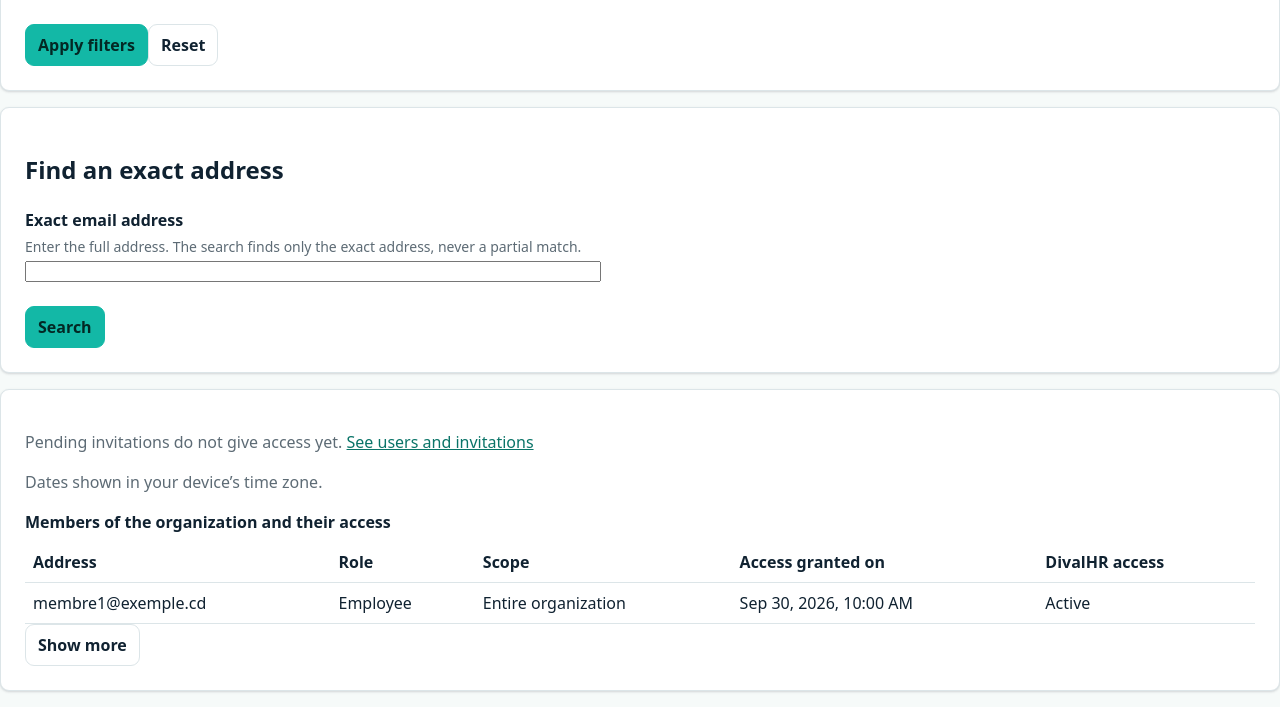
Scenario: access review (en) › loads more and moves focus to the first new row
This screenshot has width=1280, height=707.
(page scrolled)
Expected: the table with test id "review-table" is shown, top-left (25, 510), bottom-right (1255, 624)
Click the button "Show more".
click(82, 645)  # box top-left (25, 624), bottom-right (140, 666)
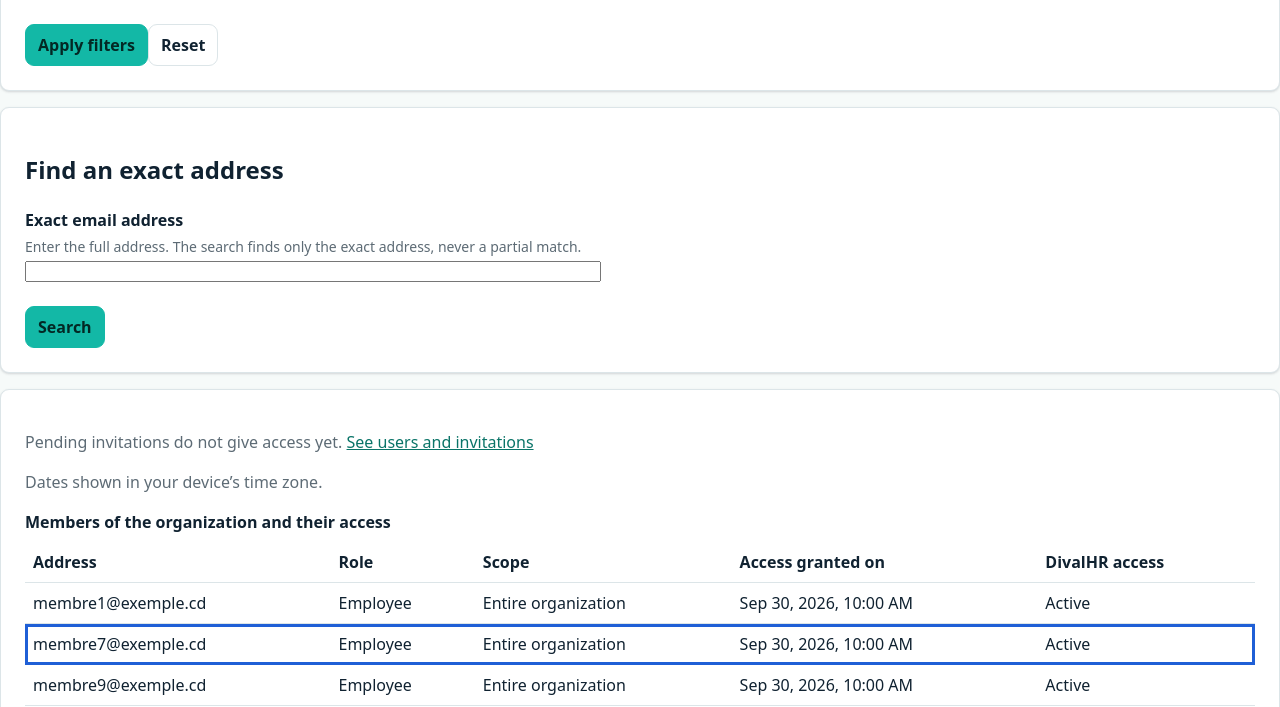
Result: the number of rows with test id "review-row" is 3 at top-left (25, 583), bottom-right (1255, 624); top-left (25, 624), bottom-right (1255, 665); top-left (25, 665), bottom-right (1255, 706)
Result: the button "Show more" is gone
